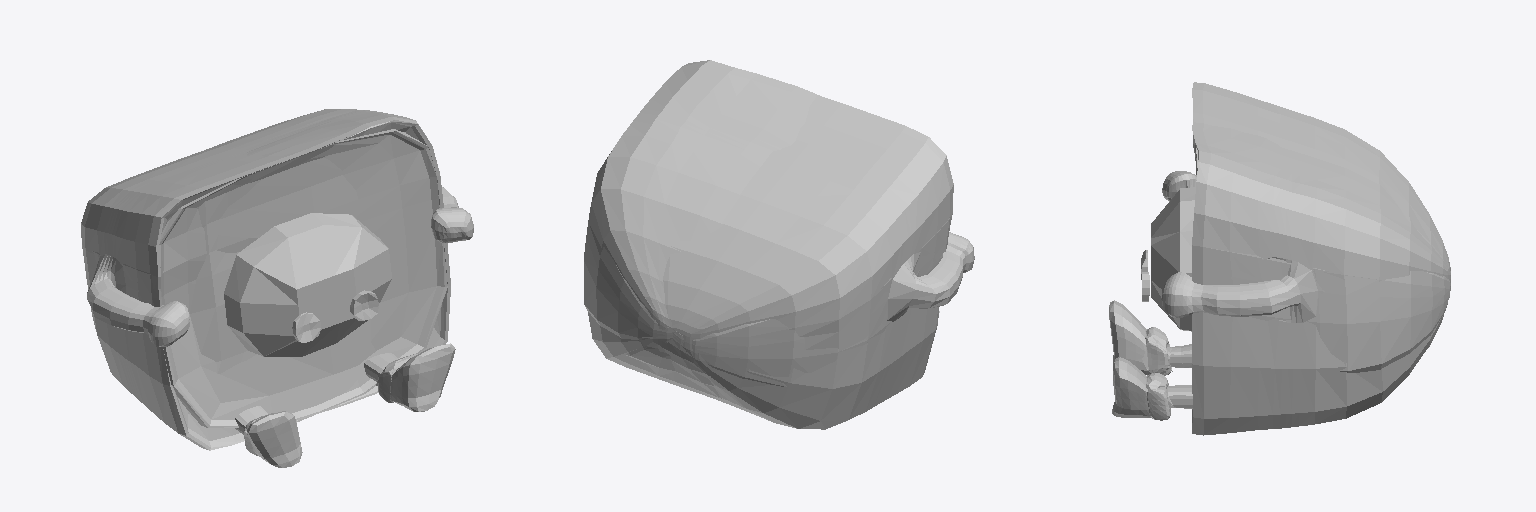
File: Pal_000037.obj
3 renders of one model, left to right at view 1: azimuth 30°, elevation 25°; view 2: azimuth 150°, elevation 25°; view 3: azimuth 270°, elevation 25°, orthographic.
Visible parts, largest first — view 1: Cuerpo_de_aguacate_3.001_Cube.002, Hueso_Cubo.003, Ojos_Cubo.002; view 2: Cuerpo_de_aguacate_3.001_Cube.002; view 3: Cuerpo_de_aguacate_3.001_Cube.002, Hueso_Cubo.003.
Part boxes in pixels (left/top/right/bottom): Cuerpo_de_aguacate_3.001_Cube.002: left=81, top=109, right=473, bottom=467; Hueso_Cubo.003: left=224, top=213, right=391, bottom=356; Ojos_Cubo.002: left=292, top=290, right=378, bottom=342; Cuerpo_de_aguacate_3.001_Cube.002: left=584, top=60, right=974, bottom=429; Cuerpo_de_aguacate_3.001_Cube.002: left=1109, top=82, right=1450, bottom=435; Hueso_Cubo.003: left=1151, top=187, right=1195, bottom=331.
Bounding box in the file's own units: 1.17 × 0.9228 × 1.01.